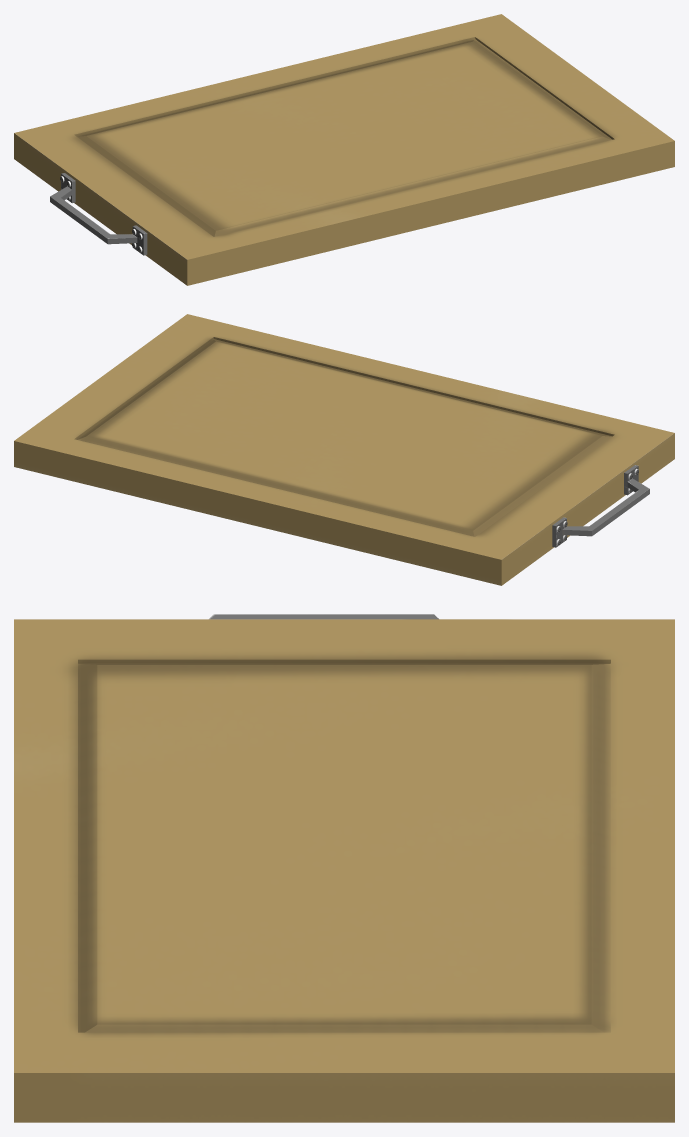
Rendered from Cutting Board.fbx.
3 views of the same model, one above another, from view 1: azimuth 30°, elevation 25°; view 2: azimuth 150°, elevation 25°; view 3: azimuth 270°, elevation 25° (orthographic). The views are drawn at different scales.
Visible parts, largest first — view 1: pCube4; view 2: pCube4; view 3: pCube4.
Part boxes in pixels (<box>): pCube4: <box>14,14,674,285</box>; pCube4: <box>14,314,674,585</box>; pCube4: <box>14,614,674,1122</box>.
Size of the model in its own units: 71.35 by 4.1 by 41.61.
